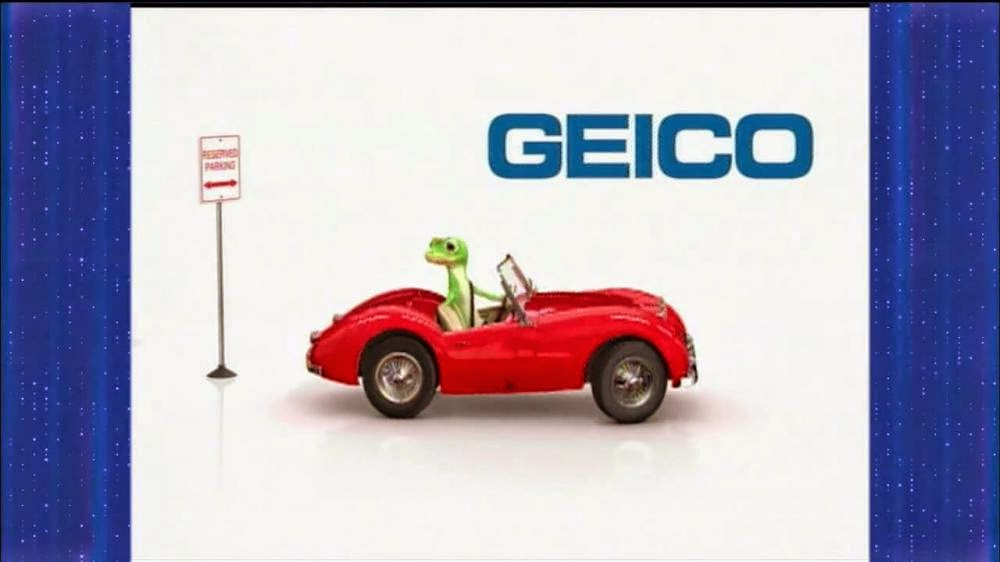Geico: (488, 103, 817, 185)
